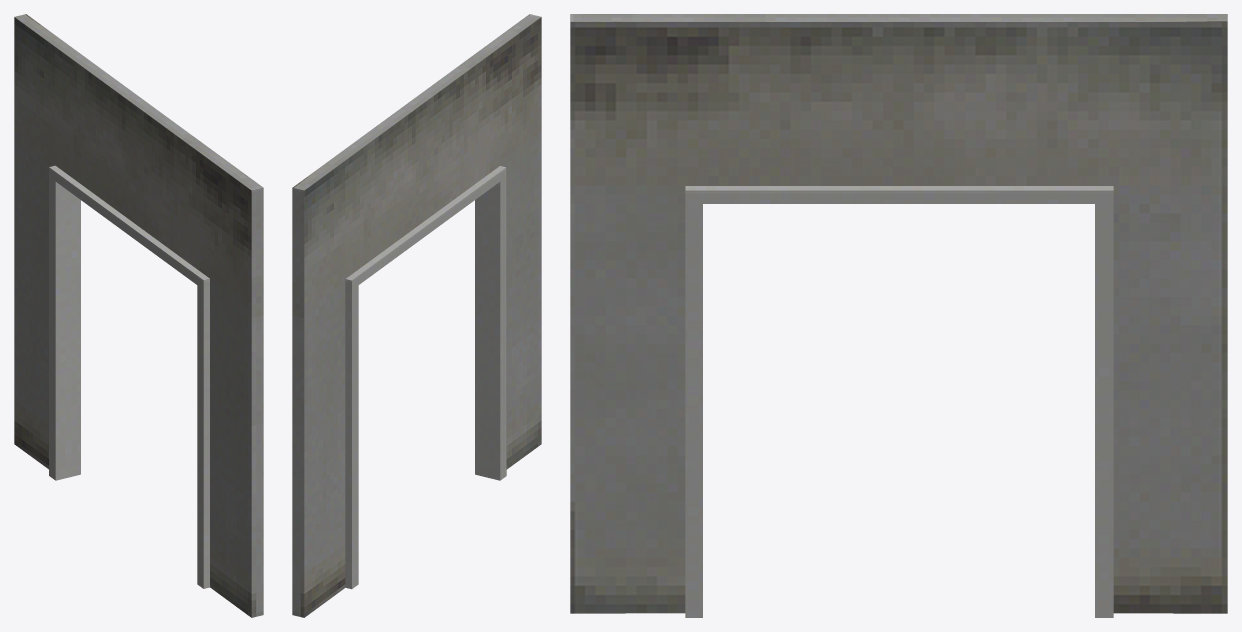
The model's file is SM_Reception_Doorway.fbx.
The picture shows the model from 3 angles, left to right: view 1: azimuth 30°, elevation 25°; view 2: azimuth 150°, elevation 25°; view 3: azimuth 270°, elevation 25°; orthographic projection. The views are drawn at different scales.
Visible parts, largest first — view 1: SM_Reception_Doorway; view 2: SM_Reception_Doorway; view 3: SM_Reception_Doorway.
Part boxes in pixels (x1,y1,x2,y2): SM_Reception_Doorway: (14,14,263,617); SM_Reception_Doorway: (292,14,541,617); SM_Reception_Doorway: (570,14,1227,617).
Size of the model in its own units: 18.54 by 300 by 302.
